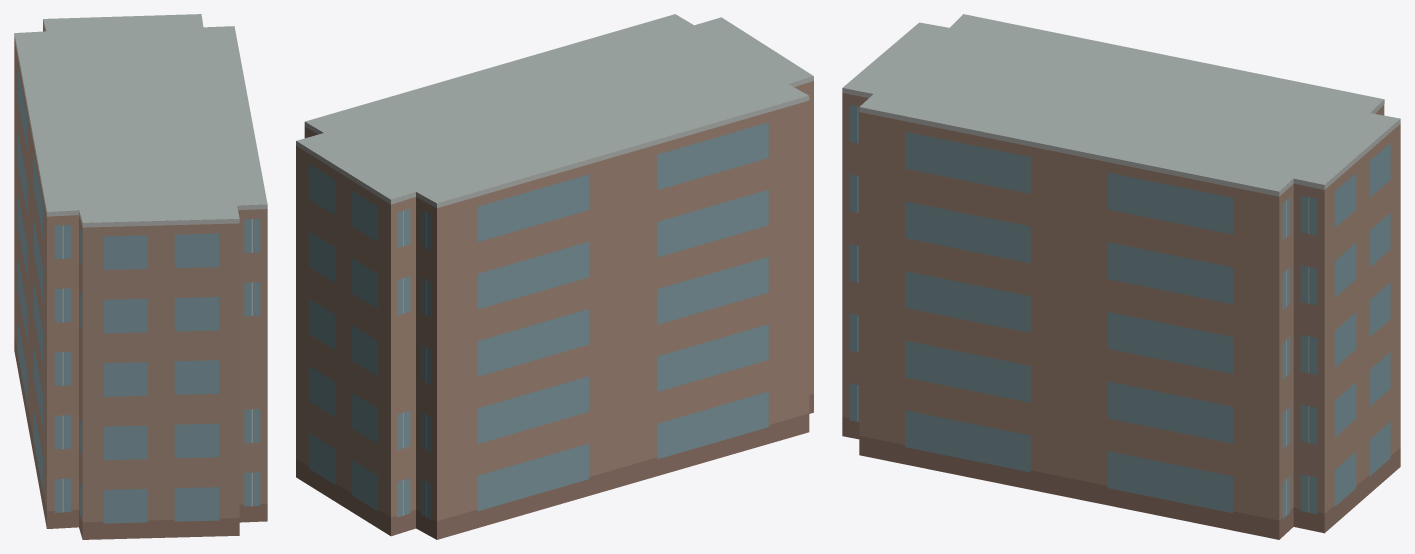
The model's file is survey-upis-32999900.glb.
3 views of the same model, side by side, from view 1: azimuth 30°, elevation 25°; view 2: azimuth 150°, elevation 25°; view 3: azimuth 270°, elevation 25° (orthographic). The views are drawn at different scales.
Visible parts, largest first — view 1: survey-upis-32999900.tmp; view 2: survey-upis-32999900.tmp; view 3: survey-upis-32999900.tmp.
Part boxes in pixels (box(x1,y1,x2,y2)): survey-upis-32999900.tmp: box(14, 14, 267, 539); survey-upis-32999900.tmp: box(296, 14, 813, 539); survey-upis-32999900.tmp: box(842, 14, 1400, 539).
Bounding box in the file's own units: 18.39 × 16.8 × 24.42.
